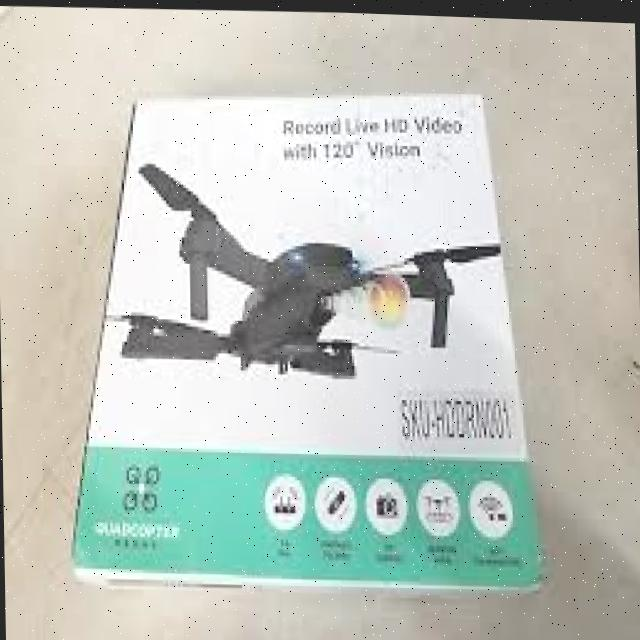drone: (105, 150, 508, 429)
